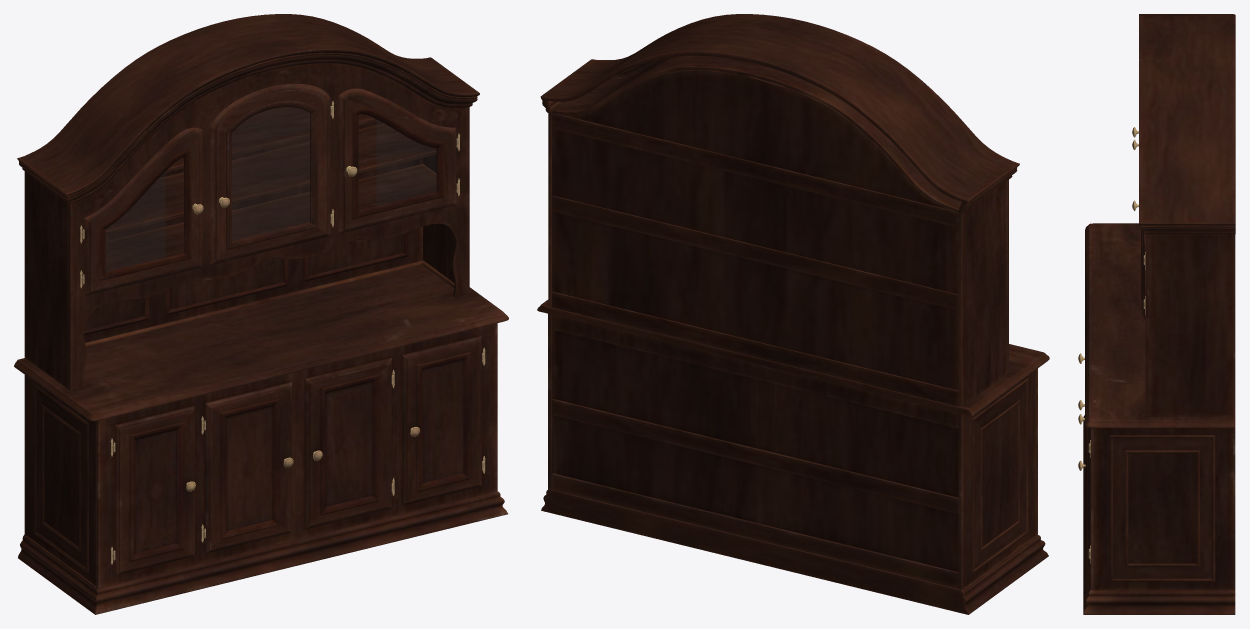
Rendered from ph2_vintage_cabinet_01.glb.
3 views of the same model, side by side, from view 1: azimuth 30°, elevation 25°; view 2: azimuth 150°, elevation 25°; view 3: azimuth 270°, elevation 25° (orthographic). The views are drawn at different scales.
Bounding box in the file's own units: 2.02 × 2.24 × 0.6698.
Materials: 3 (2 with a texture image).
